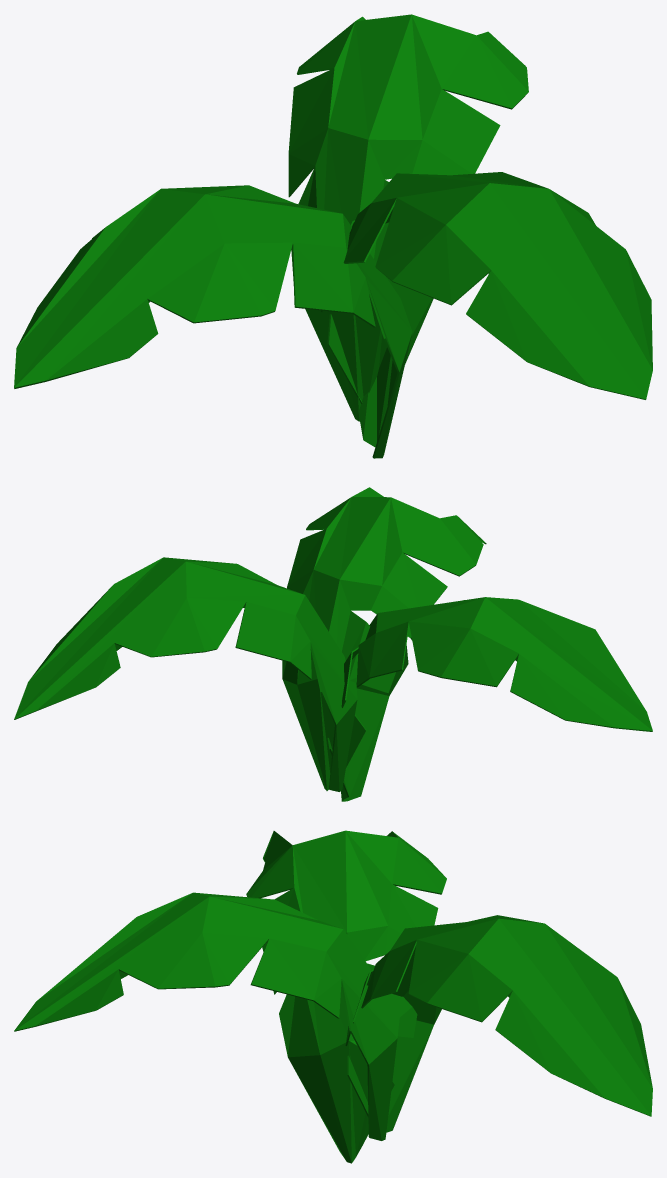
File: testPlant 3.fbx
3 renders of one model, top to bottom at view 1: azimuth 30°, elevation 25°; view 2: azimuth 150°, elevation 25°; view 3: azimuth 270°, elevation 25°, orthographic. The views are drawn at different scales.
Parts seen in each view (by area): view 1: Plane202; view 2: Plane202; view 3: Plane202.
Boxes of the visible parts, x1,y1,x2,y2 form: Plane202: [14, 14, 652, 458]; Plane202: [14, 487, 652, 801]; Plane202: [14, 830, 652, 1163].
Size of the model in its own units: 13.18 by 6.81 by 13.49.
